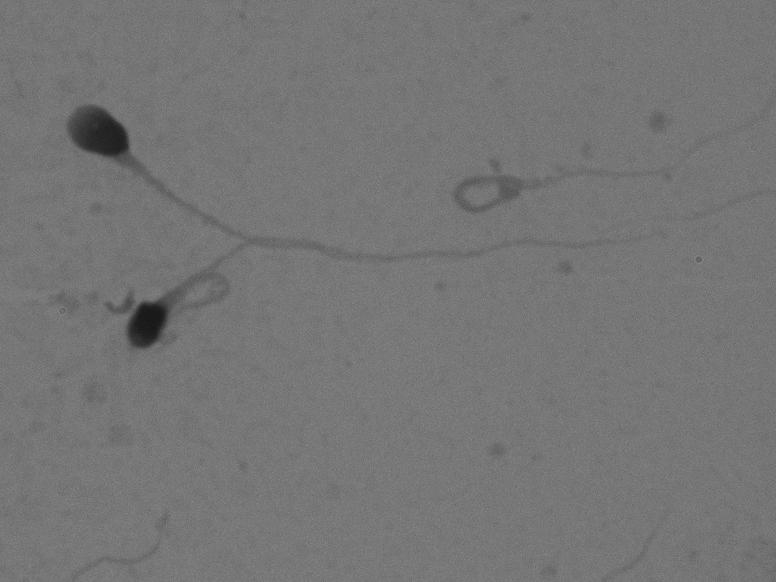Abnormal: (28, 73, 747, 277), (81, 229, 640, 384)
